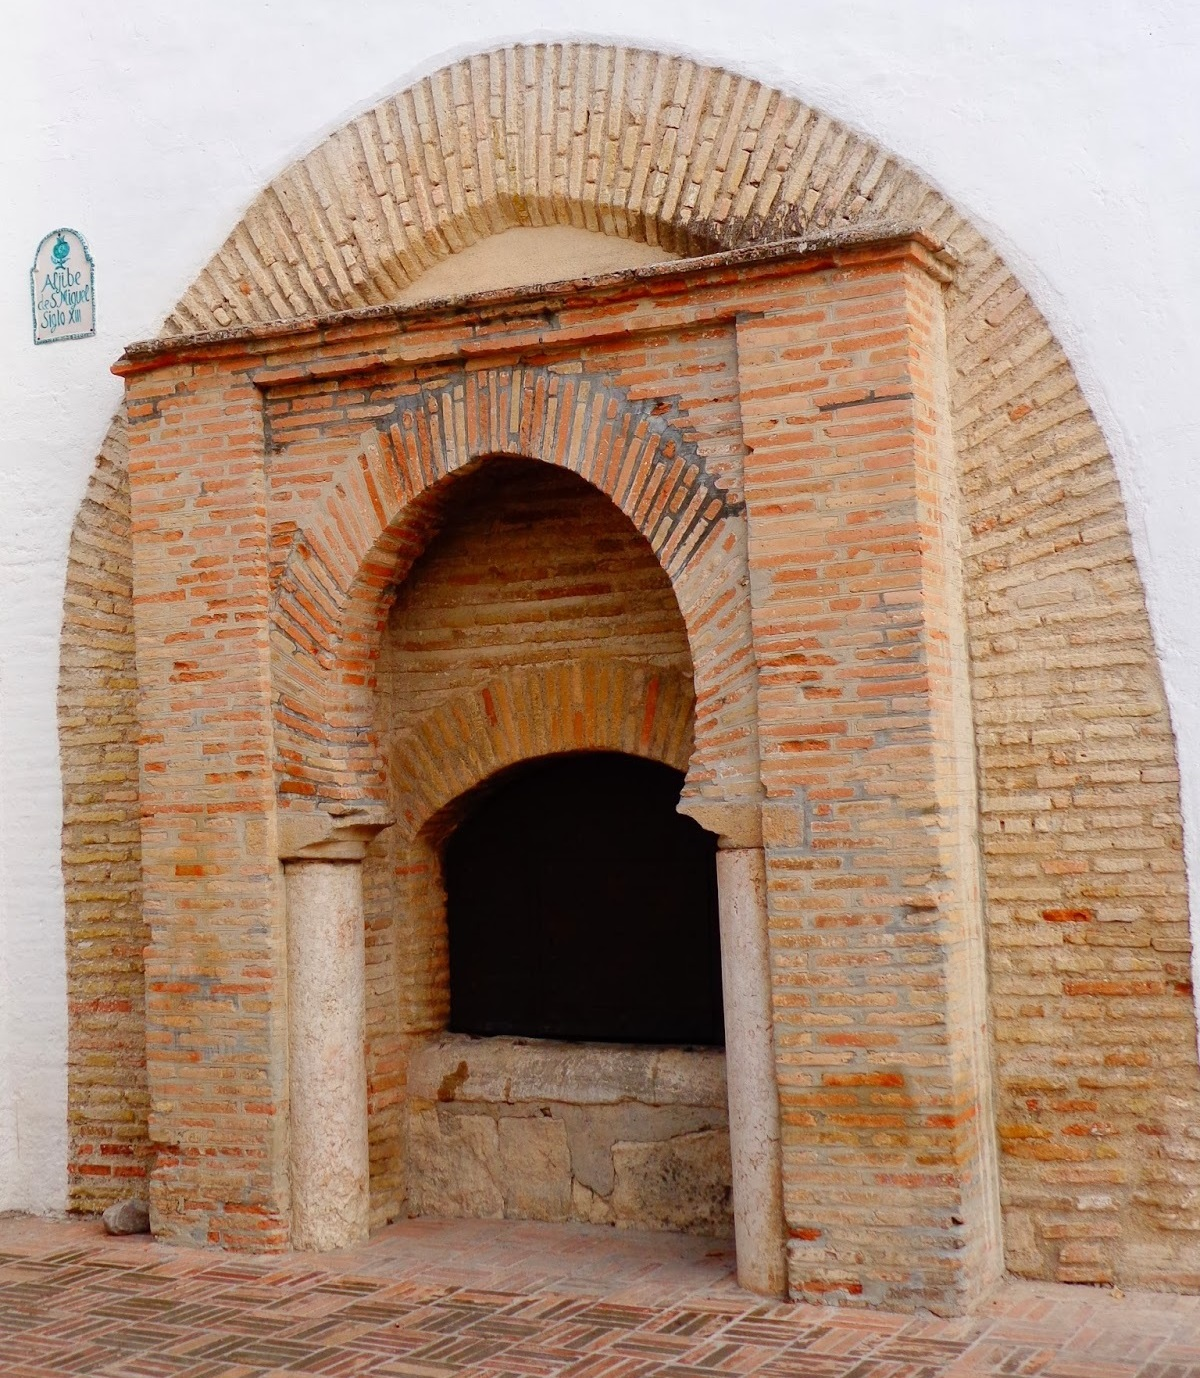arco-herradura: (311, 436, 739, 862)
